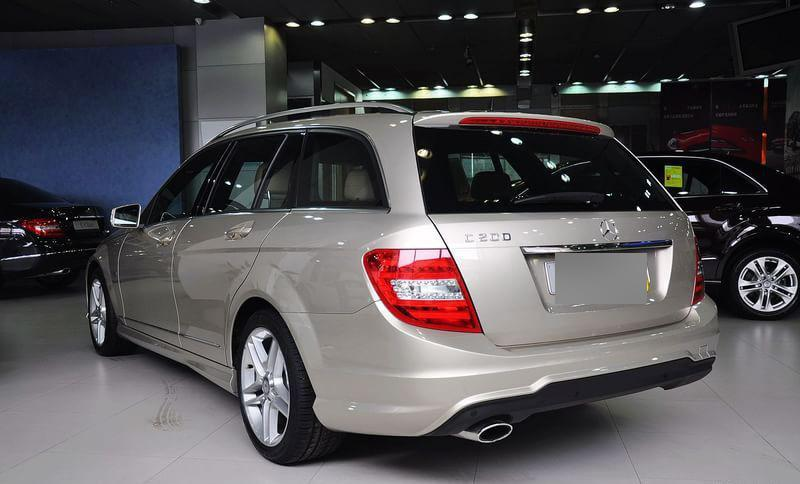Wagon: (84, 100, 723, 467)
